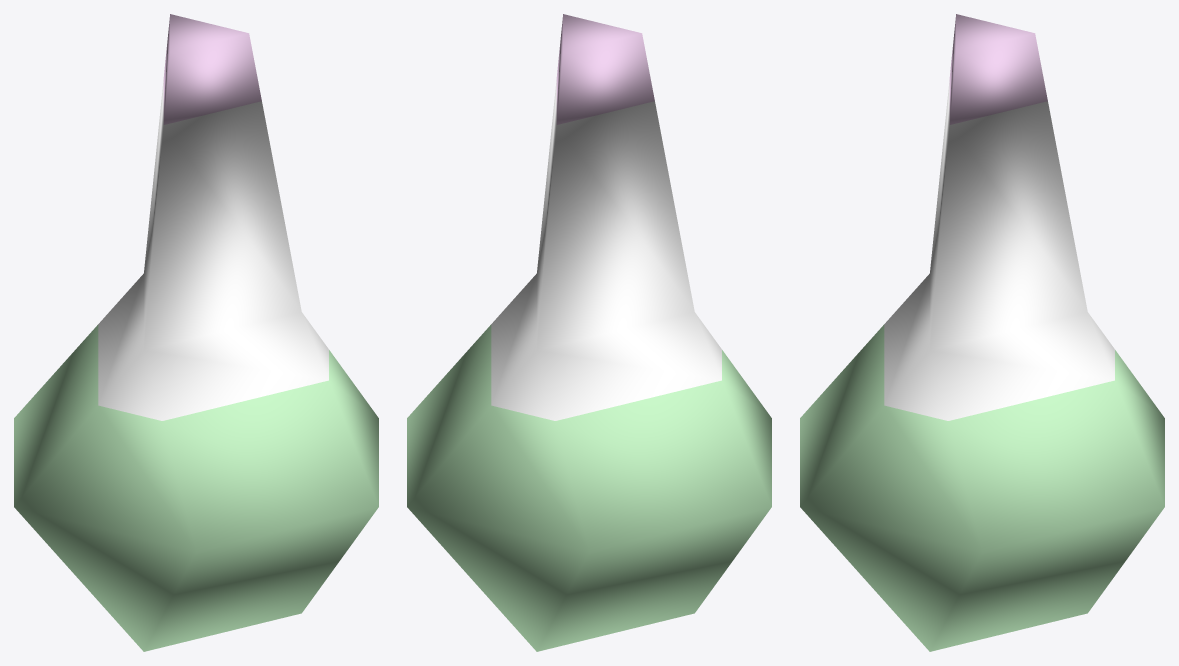
File: Bottle.glb
3 views of the same model, side by side, from view 1: azimuth 30°, elevation 25°; view 2: azimuth 150°, elevation 25°; view 3: azimuth 270°, elevation 25° (orthographic).
Visible parts, largest first — view 1: Bottle; view 2: Bottle; view 3: Bottle.
Boxes of the visible parts, box(x1,y1,x2,y2) form: Bottle: box(14, 14, 378, 651); Bottle: box(407, 14, 771, 651); Bottle: box(800, 14, 1164, 651).
Bounding box in the file's own units: 0.2 × 0.304 × 0.1732.
